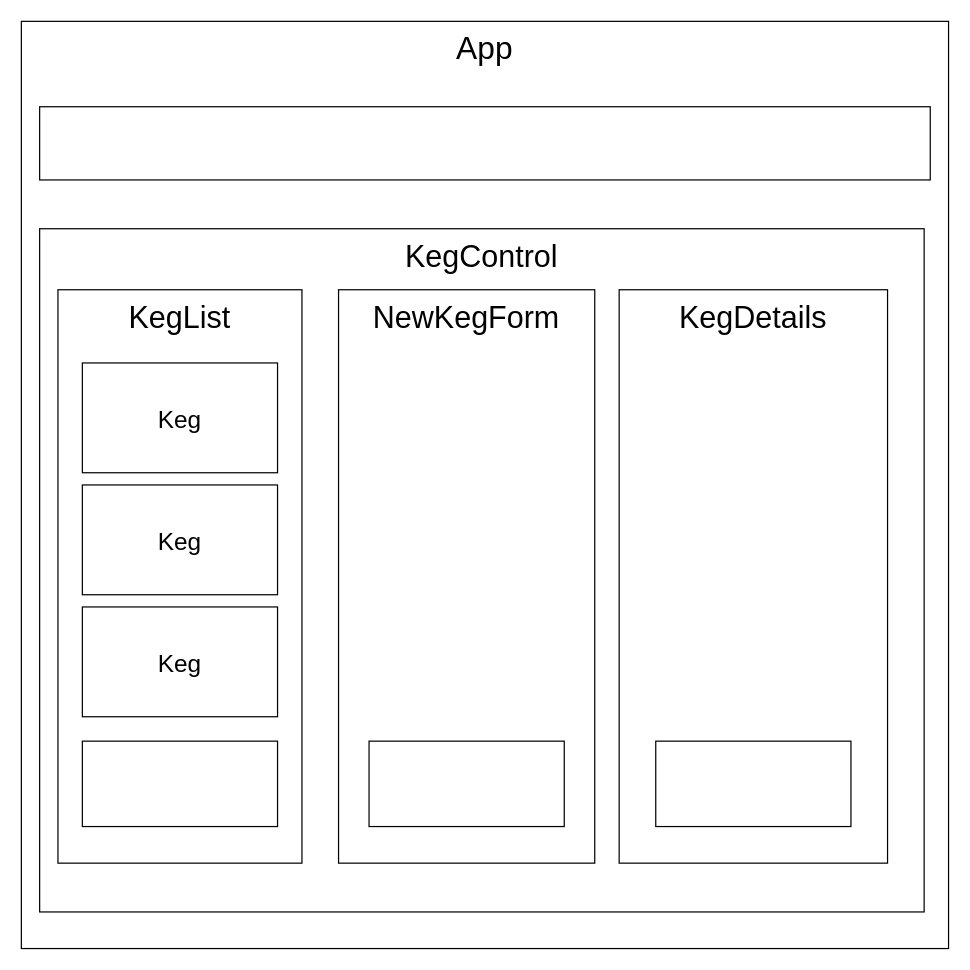
Some shapes in this 970 by 970 pixel diagram are drawn without their labels. Each missing label, with the centre of its shape:
AddKeg: [179,783]
Header: [484,143]
Submit: [466,783]
Update/Delete: [753,783]
